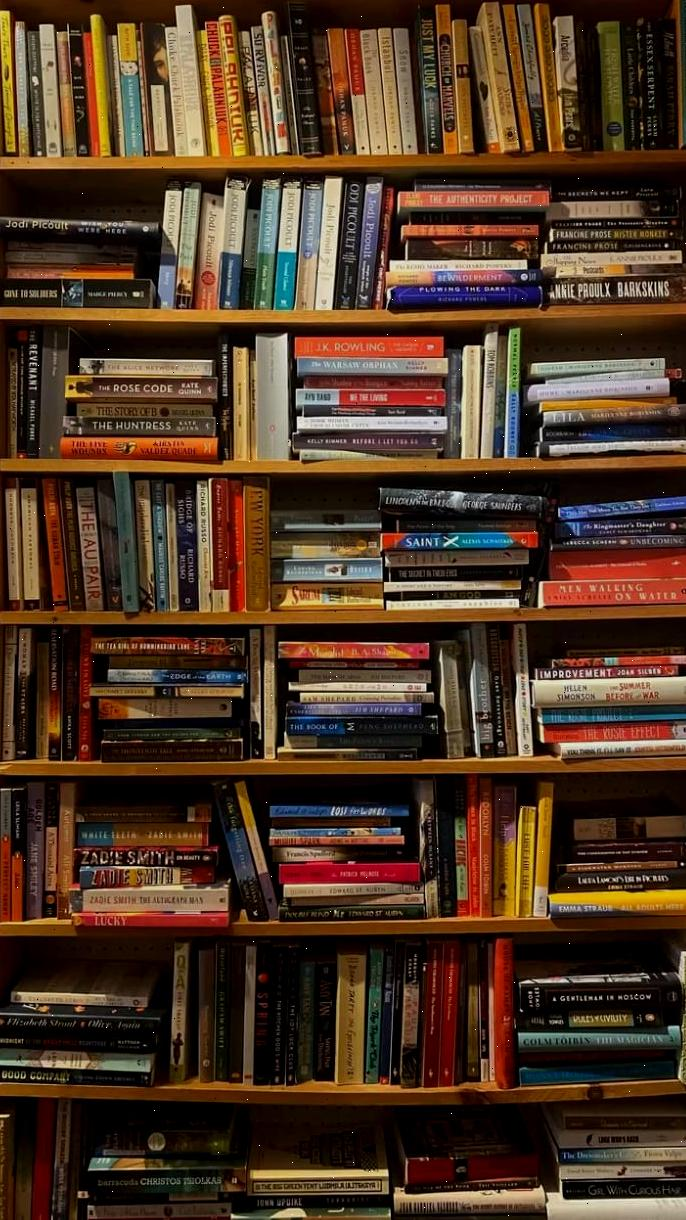book: (208, 778, 274, 922), (474, 2, 520, 153), (286, 0, 326, 155), (0, 1045, 161, 1082), (165, 7, 204, 155), (0, 1021, 167, 1052), (83, 1166, 242, 1198), (515, 1023, 682, 1053), (399, 1153, 543, 1187), (261, 9, 294, 156), (216, 15, 248, 159), (528, 677, 686, 706), (353, 175, 386, 311), (533, 579, 686, 608), (524, 375, 677, 404), (255, 335, 291, 458), (335, 946, 366, 1087), (545, 545, 686, 576), (140, 21, 172, 156), (0, 214, 158, 241), (218, 174, 250, 307), (552, 15, 583, 152), (532, 4, 561, 150), (542, 277, 686, 306), (41, 327, 73, 457), (335, 177, 366, 311), (74, 484, 105, 611), (596, 20, 626, 151), (315, 175, 344, 310), (112, 472, 141, 607), (516, 1006, 678, 1030), (296, 178, 325, 311), (492, 937, 517, 1091), (274, 178, 303, 310), (117, 20, 145, 156), (253, 177, 282, 308), (72, 847, 217, 873), (293, 335, 450, 359), (173, 182, 202, 311), (417, 5, 442, 154), (60, 436, 221, 459), (549, 495, 686, 522), (77, 802, 214, 829), (401, 237, 543, 263), (40, 481, 69, 608), (435, 7, 460, 154), (95, 479, 123, 609), (248, 27, 276, 157), (535, 403, 686, 427), (75, 865, 217, 890), (450, 15, 476, 151), (242, 482, 269, 610), (69, 378, 219, 401), (531, 783, 555, 926), (30, 1098, 58, 1220), (48, 1098, 76, 1220), (75, 824, 217, 848), (391, 27, 418, 153), (539, 721, 686, 744), (158, 178, 184, 308), (88, 14, 112, 154), (396, 189, 556, 210), (89, 635, 247, 656), (554, 839, 686, 864), (549, 868, 686, 892), (378, 516, 542, 536), (100, 741, 248, 763), (294, 432, 447, 453), (170, 941, 192, 1086), (37, 22, 61, 154), (94, 698, 238, 720), (383, 268, 541, 288), (278, 860, 421, 882), (493, 785, 516, 921), (551, 517, 686, 540), (545, 1143, 686, 1165), (293, 388, 448, 408), (4, 242, 138, 265), (540, 254, 686, 275), (380, 548, 533, 568), (281, 880, 425, 901), (526, 357, 670, 378), (536, 438, 686, 458), (639, 17, 661, 153), (68, 24, 91, 154), (276, 642, 433, 661), (294, 357, 450, 376), (64, 417, 219, 436), (621, 22, 643, 155), (196, 940, 216, 1086), (25, 783, 46, 921), (534, 422, 686, 441), (14, 629, 36, 760), (657, 13, 678, 149), (536, 707, 686, 726), (379, 564, 529, 583), (72, 911, 230, 929), (383, 534, 540, 552), (511, 626, 532, 759), (19, 483, 42, 604), (74, 358, 218, 377), (271, 557, 385, 581), (557, 1160, 686, 1181), (97, 668, 247, 686), (546, 200, 680, 220), (272, 588, 387, 611), (57, 787, 76, 925), (268, 801, 413, 819), (533, 664, 686, 681), (296, 415, 449, 432), (296, 375, 448, 392), (25, 26, 45, 155), (1, 628, 21, 757), (56, 29, 76, 158), (3, 481, 24, 603), (61, 631, 81, 759), (514, 806, 536, 922), (548, 184, 681, 203), (402, 210, 550, 227), (398, 223, 545, 240), (287, 668, 433, 685), (267, 509, 385, 530), (503, 328, 522, 458), (73, 403, 218, 420), (480, 327, 499, 455), (0, 11, 17, 153), (13, 22, 31, 155), (387, 259, 536, 275), (272, 847, 412, 864), (544, 237, 684, 254), (15, 329, 33, 461), (76, 630, 94, 762), (407, 178, 555, 194), (286, 701, 433, 717), (43, 782, 60, 920), (386, 595, 530, 611), (231, 345, 251, 460), (92, 684, 244, 699), (544, 653, 686, 669), (0, 785, 16, 924), (547, 227, 685, 243), (270, 833, 410, 848), (217, 334, 234, 456), (546, 218, 682, 233), (248, 630, 264, 757), (4, 266, 136, 281), (6, 345, 21, 465), (560, 644, 686, 658), (0, 1105, 14, 1220), (676, 0, 686, 150)
